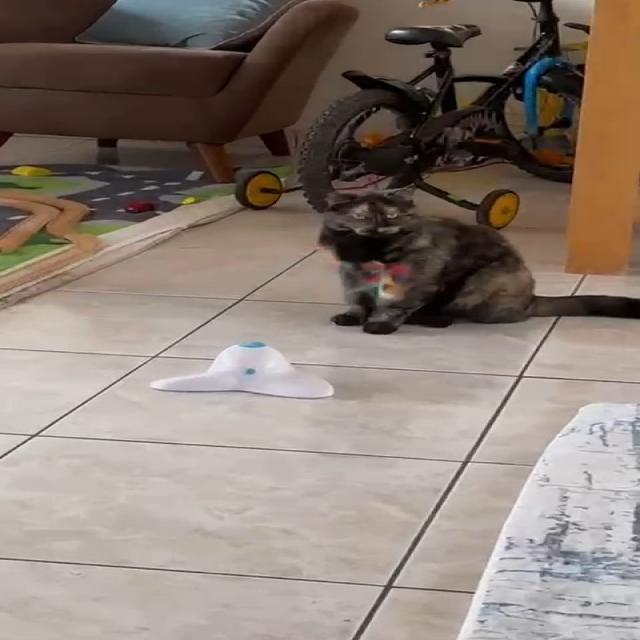authorized: (316, 189, 639, 334)
